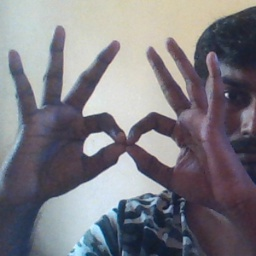B: (67, 67, 195, 181)
